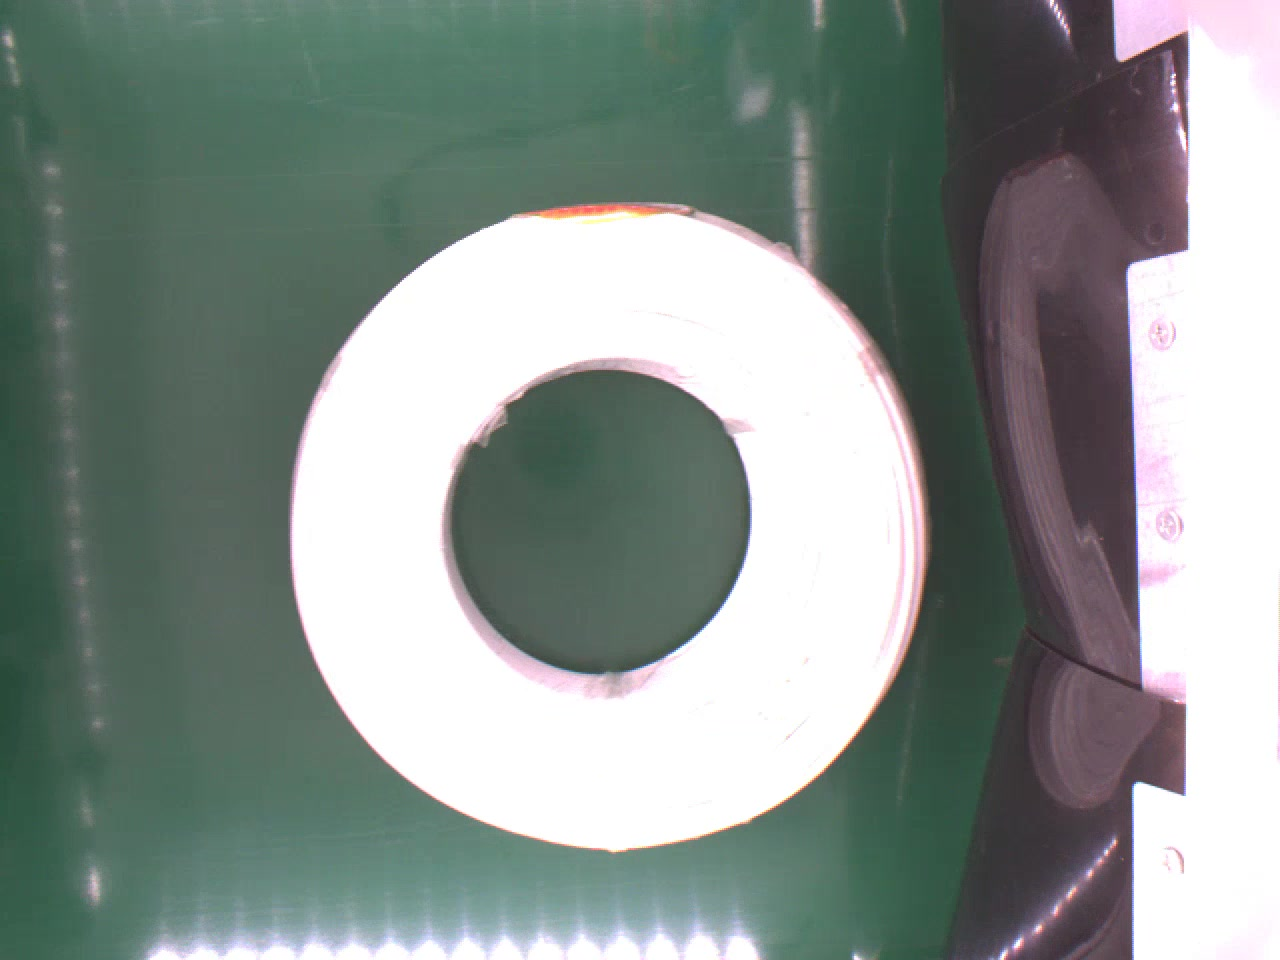white: (283, 200, 932, 855)
